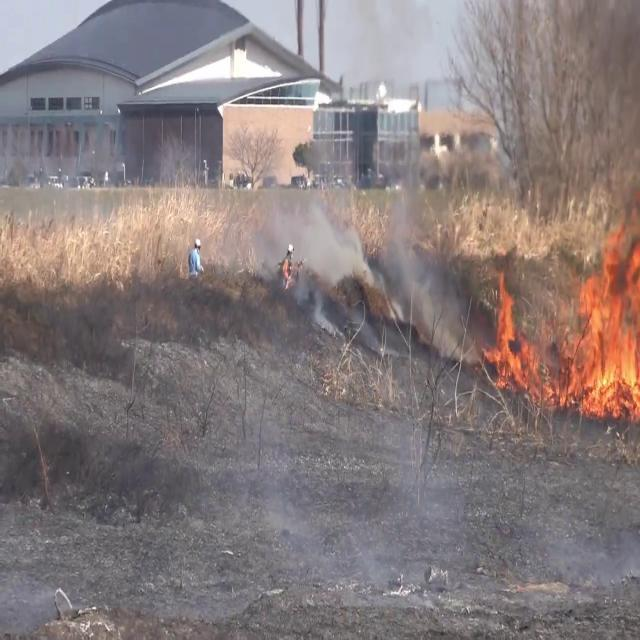Fire: (560, 205, 640, 419), (485, 267, 545, 403)
Smoke: (270, 164, 362, 349), (374, 175, 438, 346)
